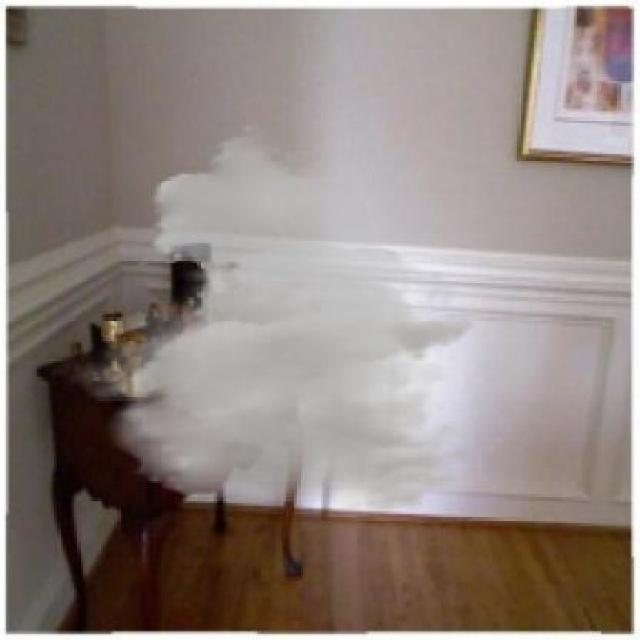smoke: (120, 126, 480, 511)
